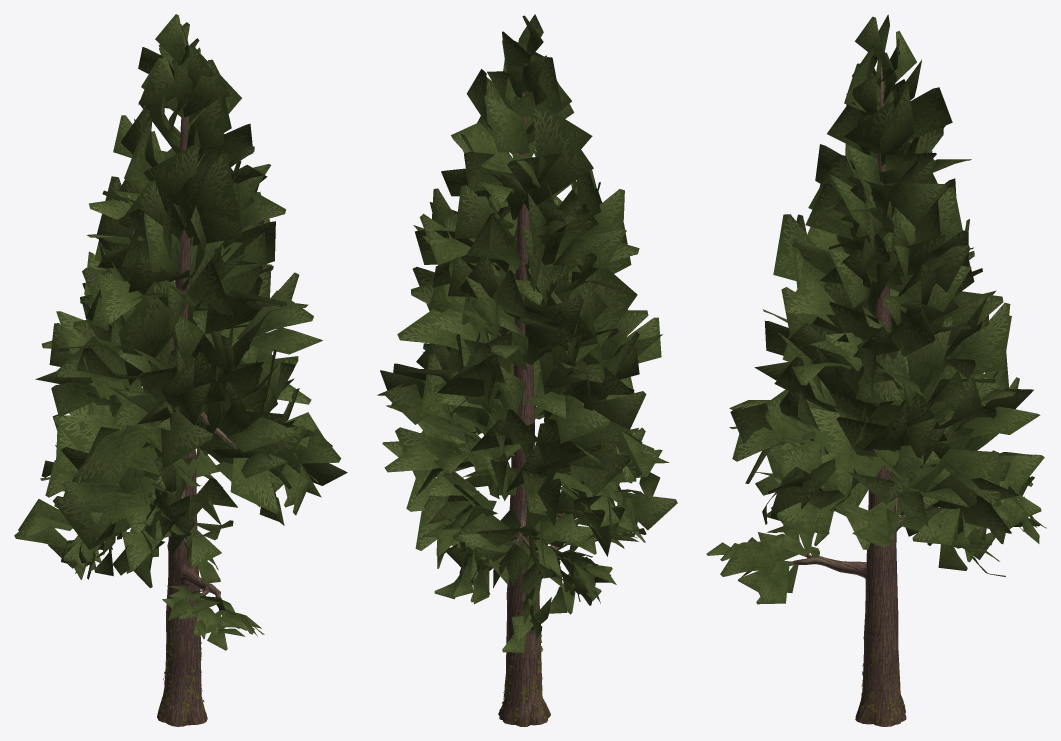
The model's file is Tree_Jenitsu.fbx.
The picture shows the model from 3 angles, left to right: view 1: azimuth 30°, elevation 25°; view 2: azimuth 150°, elevation 25°; view 3: azimuth 270°, elevation 25°; orthographic projection.
Visible parts, largest first — view 1: SM_a_005_ZenitsuTree_01a; view 2: SM_a_005_ZenitsuTree_01a; view 3: SM_a_005_ZenitsuTree_01a.
Part boxes in pixels (x1,y1,x2,y2): SM_a_005_ZenitsuTree_01a: (14, 14, 347, 726); SM_a_005_ZenitsuTree_01a: (377, 14, 677, 726); SM_a_005_ZenitsuTree_01a: (706, 14, 1046, 726).
Size of the model in its own units: 1466 by 3662 by 1615.
